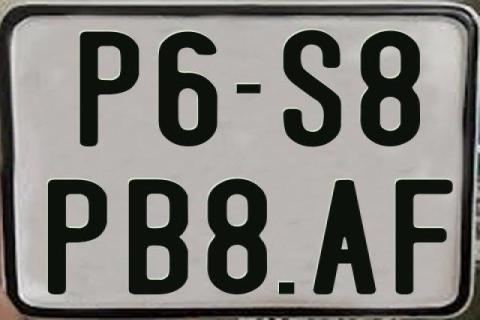0: (359, 30, 424, 148), (207, 176, 270, 294), (156, 30, 218, 146)
A: (311, 180, 375, 294)
B: (127, 177, 188, 297)
F: (393, 177, 452, 293)
P: (47, 180, 112, 300), (77, 29, 136, 148)
S: (280, 28, 344, 146)
